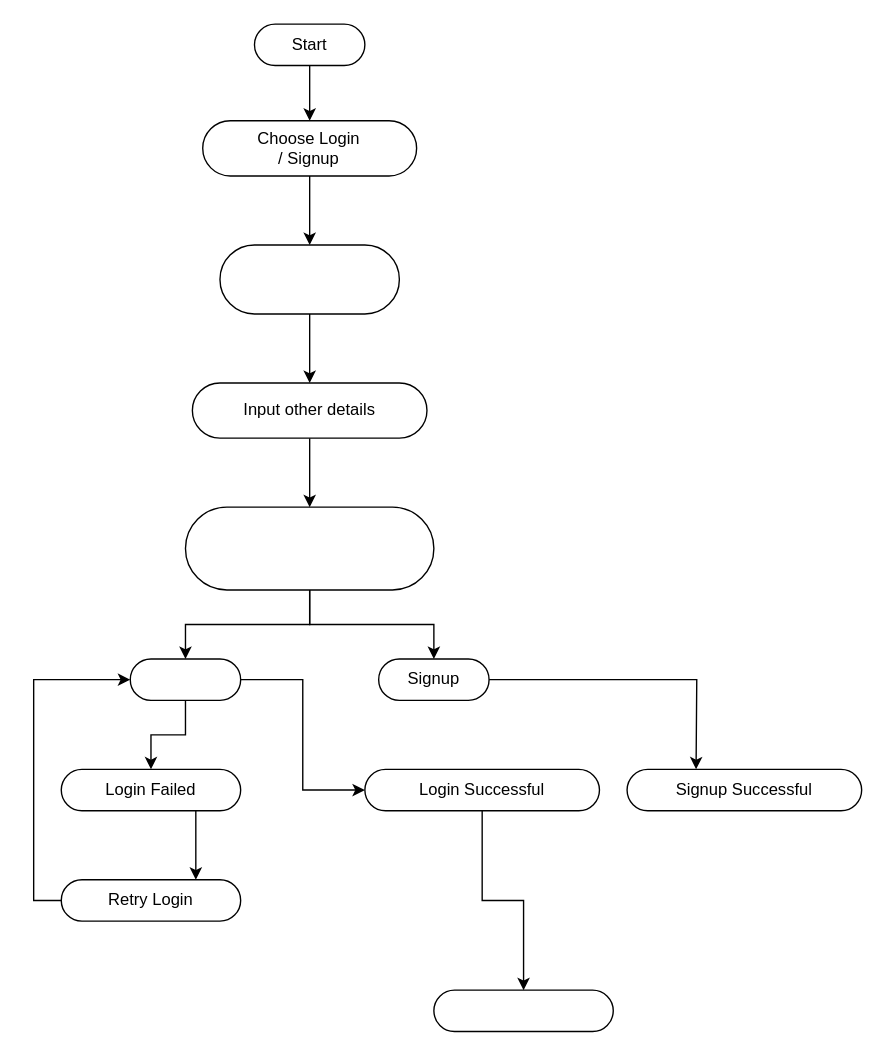
The diagram is 886 pixels wide and 1056 high, and some of its shapes have lost their labels. The shapes that lost their labels are listed below. From the top down, each one's centre as x and y in pixels, then its label:
At point (309, 279): "Input email / username".
At point (309, 548): "Input password / confirm password".
At point (185, 679): "Login".
At point (522, 1010): "End".
